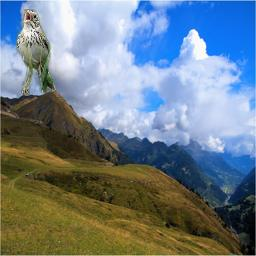Sparrow: (16, 9, 56, 95)
